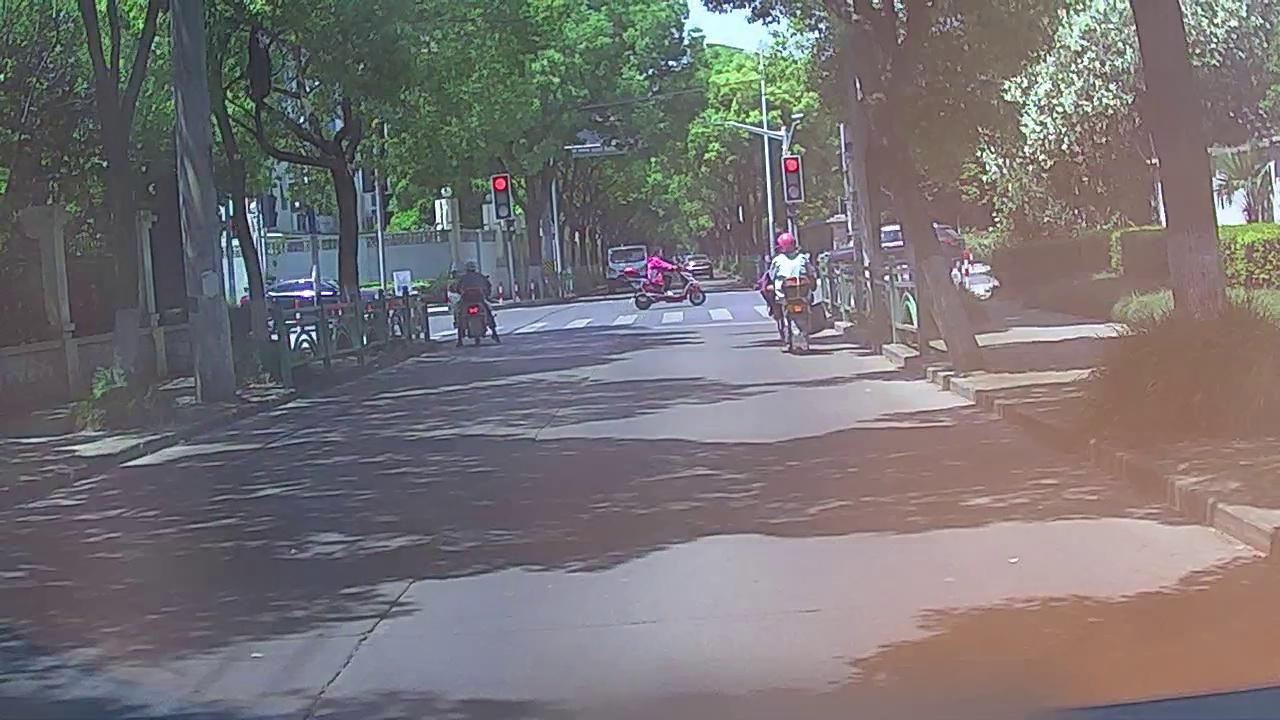traffic_light: (783, 157, 803, 202), (493, 176, 510, 218)
